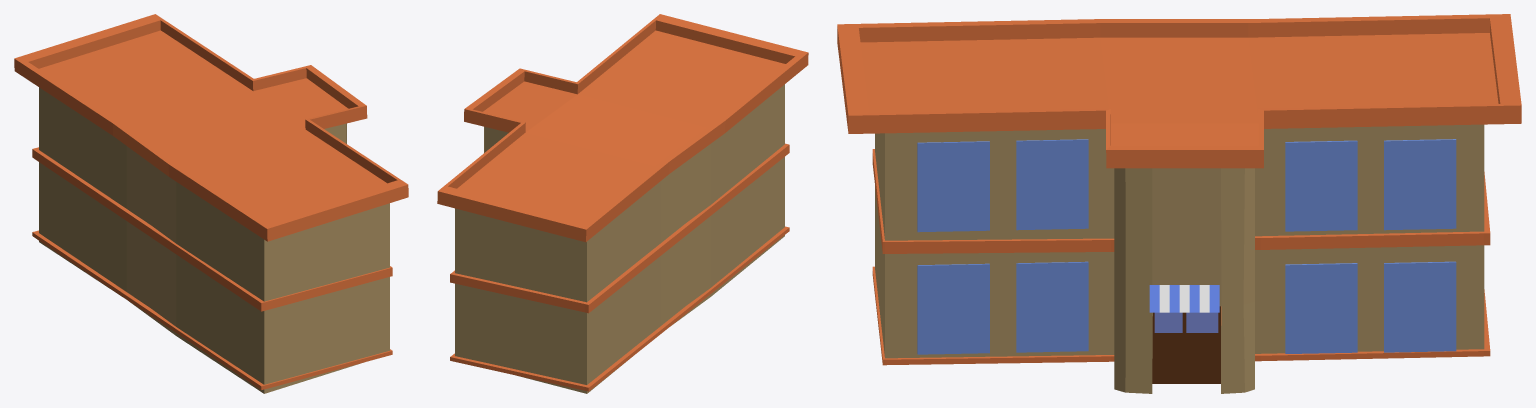
The model's file is building 2 .fbx.
3 renders of one model, left to right at view 1: azimuth 30°, elevation 25°; view 2: azimuth 150°, elevation 25°; view 3: azimuth 270°, elevation 25°, orthographic. The views are drawn at different scales.
Parts seen in each view (by area): view 1: Cube, Cube.002, Cube.001; view 2: Cube, Cube.002, Cube.001; view 3: Cube, Cube.004, Cube.002, Cube.001, Cube.044.
Boxes of the visible parts, bbox=[...] form: Cube: bbox=[14, 14, 408, 393]; Cube.002: bbox=[32, 147, 392, 311]; Cube.001: bbox=[32, 230, 392, 389]; Cube: bbox=[437, 14, 808, 393]; Cube.002: bbox=[450, 143, 789, 313]; Cube.001: bbox=[450, 226, 789, 391]; Cube: bbox=[837, 14, 1521, 393]; Cube.004: bbox=[917, 139, 1456, 354]; Cube.002: bbox=[872, 149, 1490, 253]; Cube.001: bbox=[872, 266, 1490, 365]; Cube.044: bbox=[1149, 285, 1219, 312].
Bounding box in the file's own units: 1750 × 1455 × 3480.
